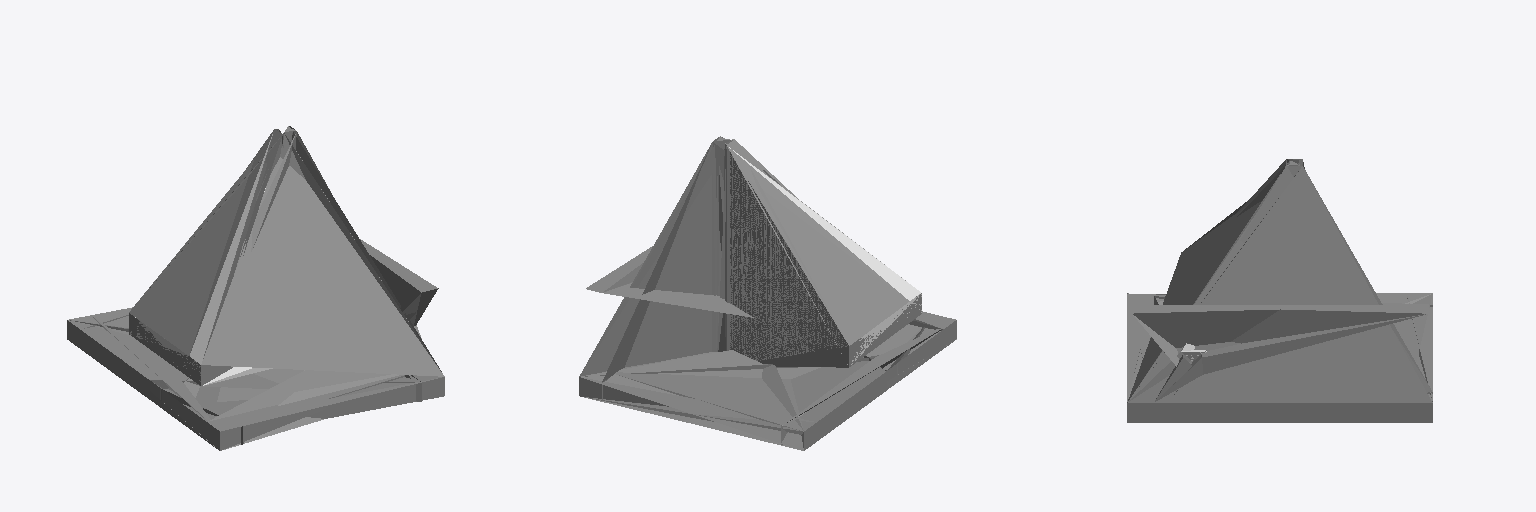
The model's file is Haus_06_OBJ.obj.
The picture shows the model from 3 angles: view 1: azimuth 30°, elevation 25°; view 2: azimuth 150°, elevation 25°; view 3: azimuth 270°, elevation 25°; orthographic projection.
Visible parts, largest first — view 1: Line011, Line009, Line013, Box007, Tube002; view 2: Line009, Line011, Tube002, Line013, Box007; view 3: Line011, Line009.
Boxes of the visible parts, box(x1,y1,x2,y2) form: Line011: box(131, 126, 444, 388); Line009: box(67, 126, 444, 450); Line013: box(129, 130, 273, 385); Box007: box(189, 134, 272, 381); Tube002: box(130, 188, 272, 385); Line009: box(579, 137, 956, 450); Line011: box(579, 136, 921, 376); Tube002: box(730, 155, 918, 364); Line013: box(724, 146, 921, 364); Box007: box(729, 147, 921, 312); Line011: box(1127, 159, 1432, 422); Line009: box(1127, 159, 1432, 402).
Bounding box in the file's own units: 1088 × 1034 × 1281.